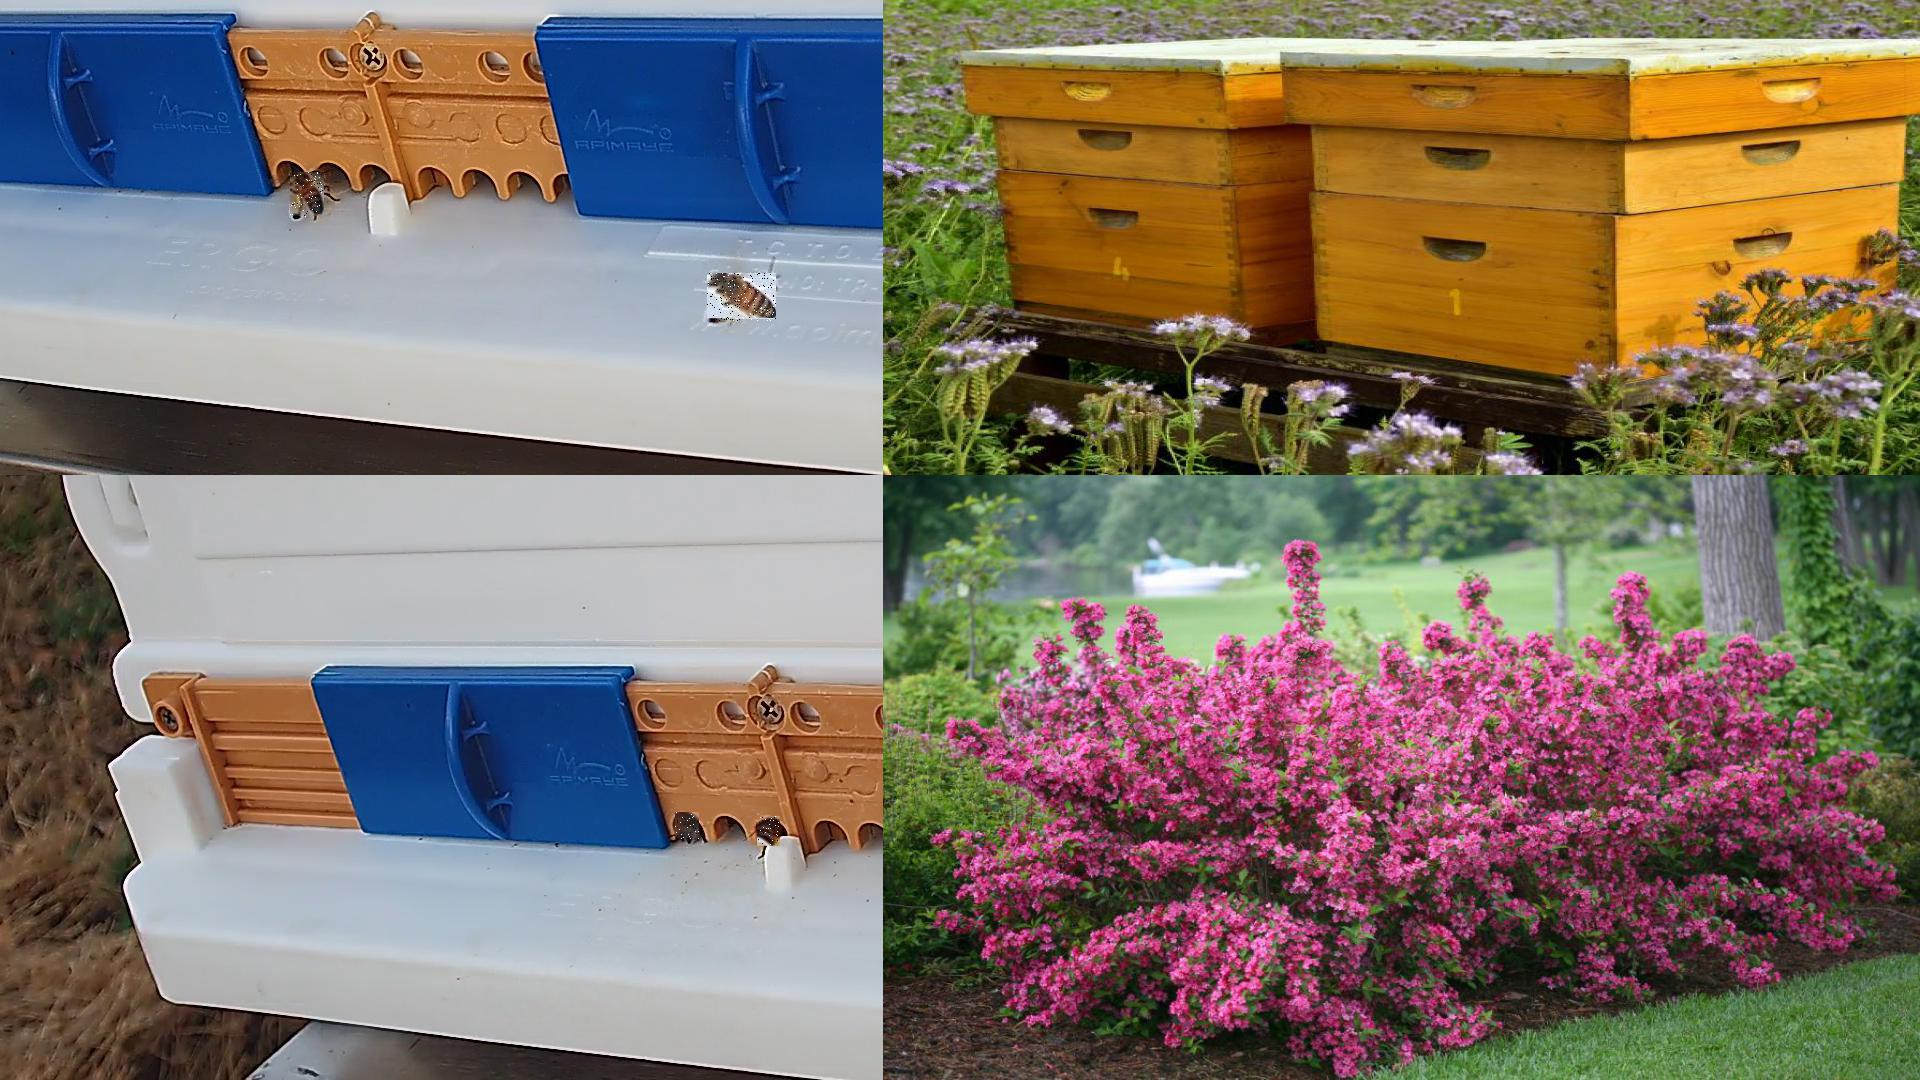bee: (707, 274, 778, 323), (675, 812, 700, 841)
pollenbee: (290, 173, 326, 219), (757, 816, 782, 847)
